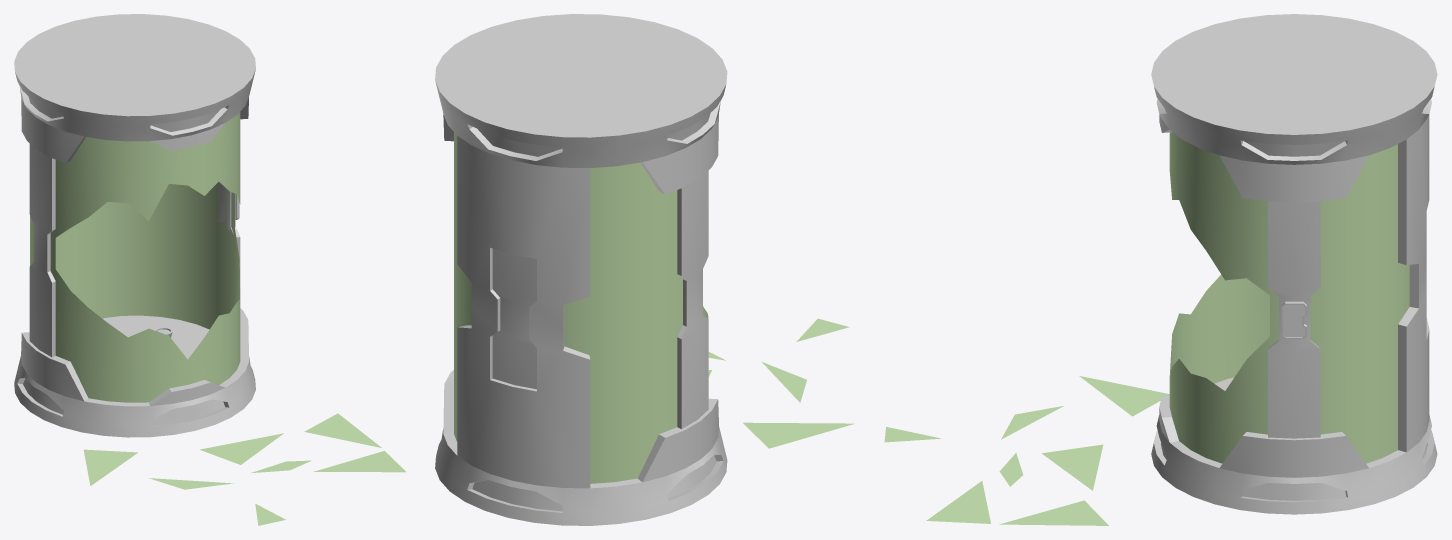
Rendered from Jarbroken.fbx.
3 renders of one model, left to right at view 1: azimuth 30°, elevation 25°; view 2: azimuth 150°, elevation 25°; view 3: azimuth 270°, elevation 25°, orthographic. The views are drawn at different scales.
Visible parts, largest first — view 1: Circle, Cylinder.003, Plane.068; view 2: Circle, Cylinder.003, Plane.068; view 3: Circle, Cylinder.003, Plane.068, Plane.067.
Part boxes in pixels (bbox=[...]): Circle: bbox=[14, 14, 255, 437]; Cylinder.003: bbox=[30, 112, 240, 402]; Plane.068: bbox=[83, 413, 406, 525]; Circle: bbox=[435, 14, 727, 525]; Cylinder.003: bbox=[454, 132, 708, 483]; Plane.068: bbox=[708, 318, 854, 448]; Circle: bbox=[1151, 14, 1437, 514]; Cylinder.003: bbox=[1169, 132, 1409, 463]; Plane.068: bbox=[884, 376, 1169, 525]; Plane.067: bbox=[1281, 301, 1306, 339].
Size of the model in its own units: 222 by 262 by 345.
